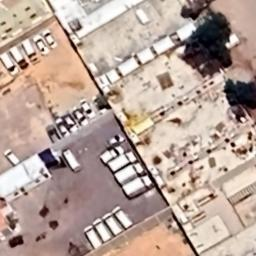sedan: (79, 98, 97, 120), (72, 106, 90, 128), (61, 112, 79, 134), (2, 148, 22, 166), (54, 116, 70, 138), (42, 29, 58, 50)
truck: (122, 175, 156, 200), (107, 149, 136, 174), (114, 162, 144, 186), (8, 46, 30, 72), (62, 148, 84, 174), (99, 146, 124, 166), (0, 51, 18, 78), (21, 36, 38, 64), (32, 34, 51, 58)
van: (111, 204, 134, 230), (102, 212, 122, 238), (91, 218, 112, 242), (82, 226, 103, 250), (45, 122, 61, 144), (107, 134, 126, 146)
